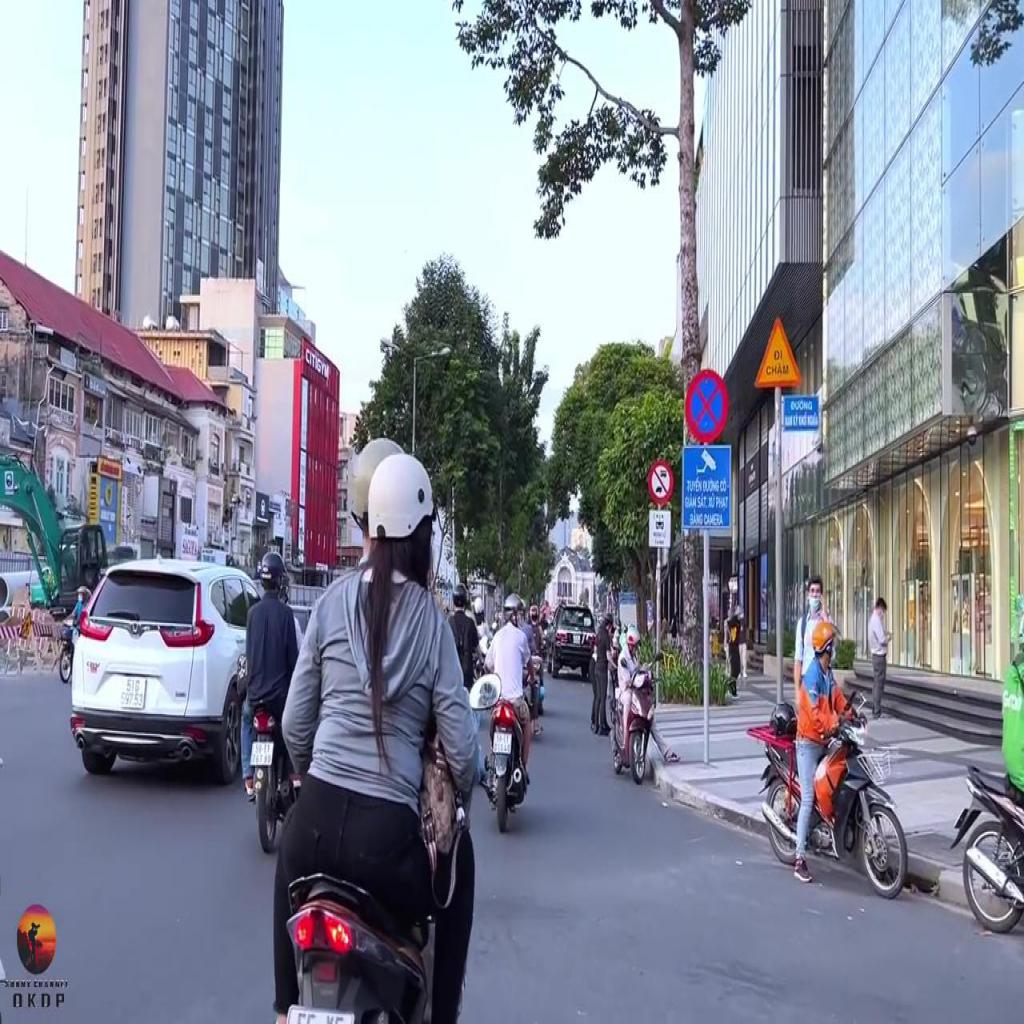cam_dung_xe_va_do_xe: (685, 368, 728, 441)
cam_o_to_tai_va_xe_khach: (648, 461, 673, 503)
di_cham: (752, 313, 802, 390)
khac: (683, 447, 730, 526), (648, 511, 670, 546)
